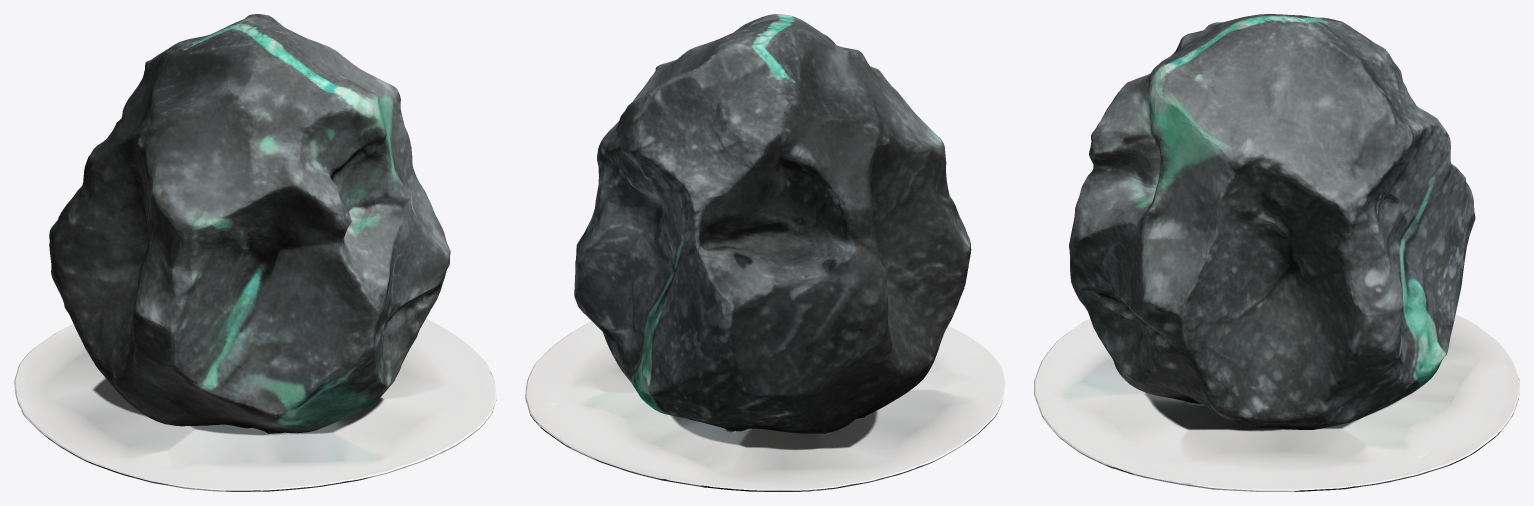
File: traveler_env_coast_iuchi_jade_seam_00001_.glb
The picture shows the model from 3 angles, left to right: view 1: azimuth 30°, elevation 25°; view 2: azimuth 150°, elevation 25°; view 3: azimuth 270°, elevation 25°; orthographic projection. The views are drawn at different scales.
Visible parts, largest first — view 1: temp_mesh.ply; view 2: temp_mesh.ply; view 3: temp_mesh.ply.
Boxes of the visible parts, <box> form: temp_mesh.ply: <box>14,14,496,491</box>; temp_mesh.ply: <box>525,14,1005,491</box>; temp_mesh.ply: <box>1034,14,1519,491</box>.
Size of the model in its own units: 1.97 by 1.71 by 1.97.
Materials: 1 (1 with a texture image).
